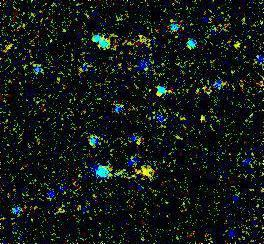star: (130, 157, 160, 187)
